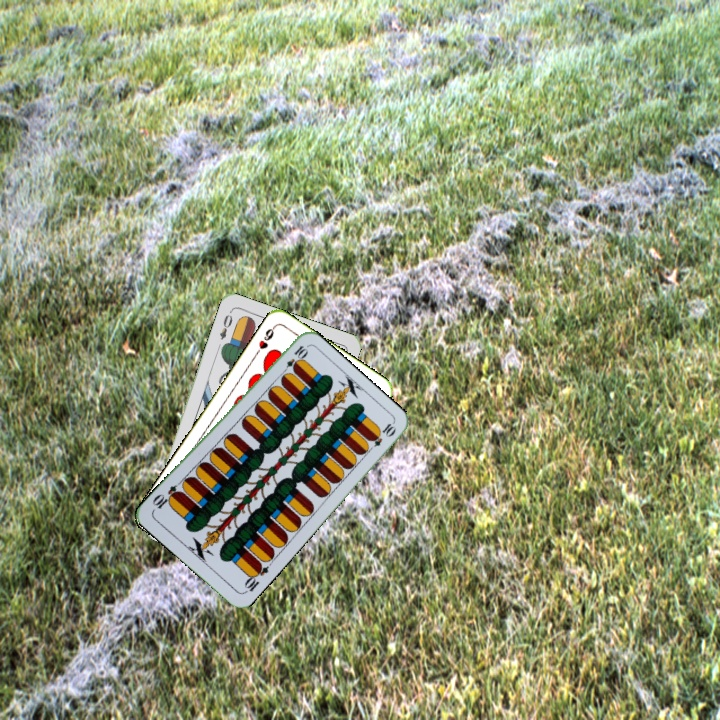E10: (278, 341, 310, 377), (240, 559, 271, 596)
EO: (215, 310, 235, 342)
H9: (251, 322, 278, 358)
